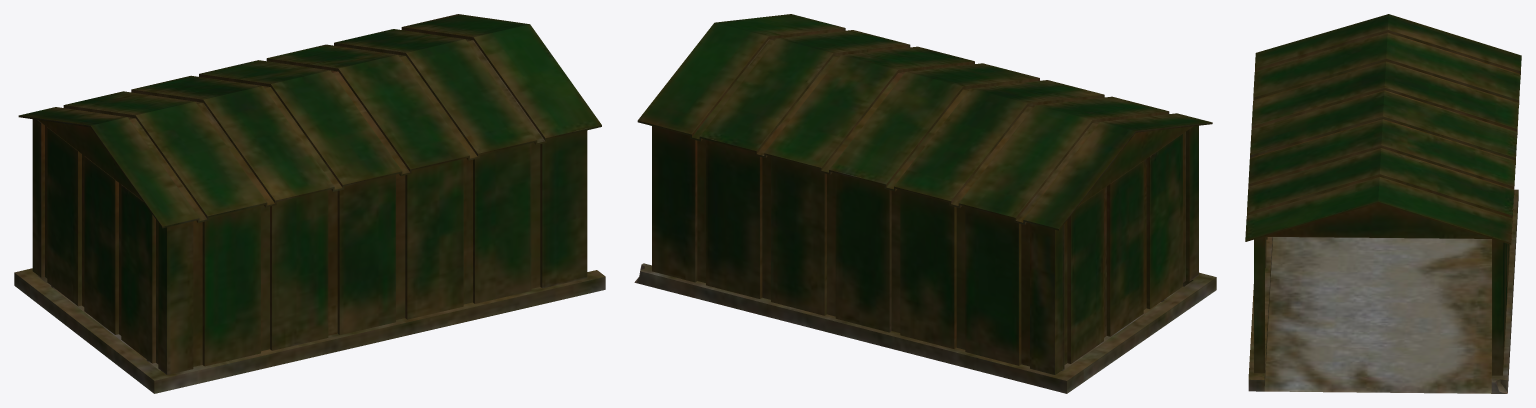
Rendered from garage_metal_2.glb.
3 views of the same model, side by side, from view 1: azimuth 30°, elevation 25°; view 2: azimuth 150°, elevation 25°; view 3: azimuth 270°, elevation 25° (orthographic). The views are drawn at different scales.
Parts seen in each view (by area): view 1: garage_metal_2; view 2: garage_metal_2; view 3: garage_metal_2.
Part boxes in pixels (left/top/right/bottom): garage_metal_2: left=14, top=14, right=605, bottom=393; garage_metal_2: left=634, top=14, right=1216, bottom=393; garage_metal_2: left=1245, top=14, right=1521, bottom=393.
Size of the model in its own units: 6.09 by 2.74 by 3.64.
1 material, 1 textured.
